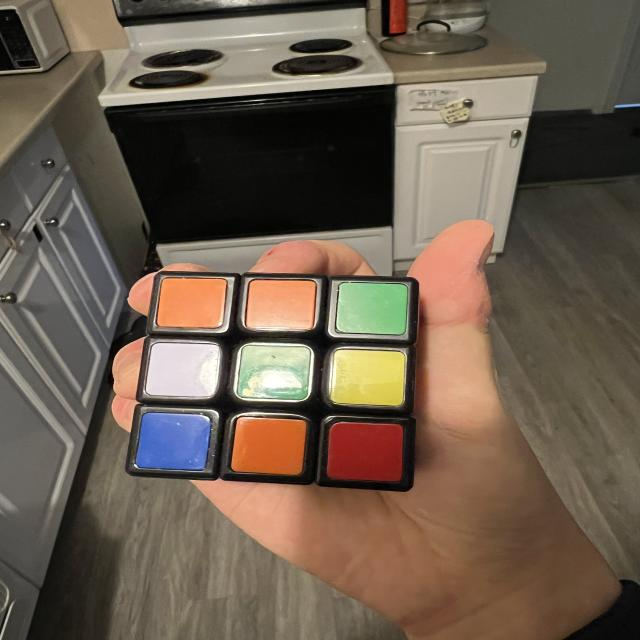blue: (133, 410, 212, 473)
center: (236, 342, 314, 401)
green: (335, 281, 408, 336)
orange: (230, 413, 308, 478), (156, 277, 228, 329), (245, 279, 317, 331)
red: (326, 421, 404, 483)
white: (146, 339, 221, 400)
yellow: (327, 347, 407, 407)
